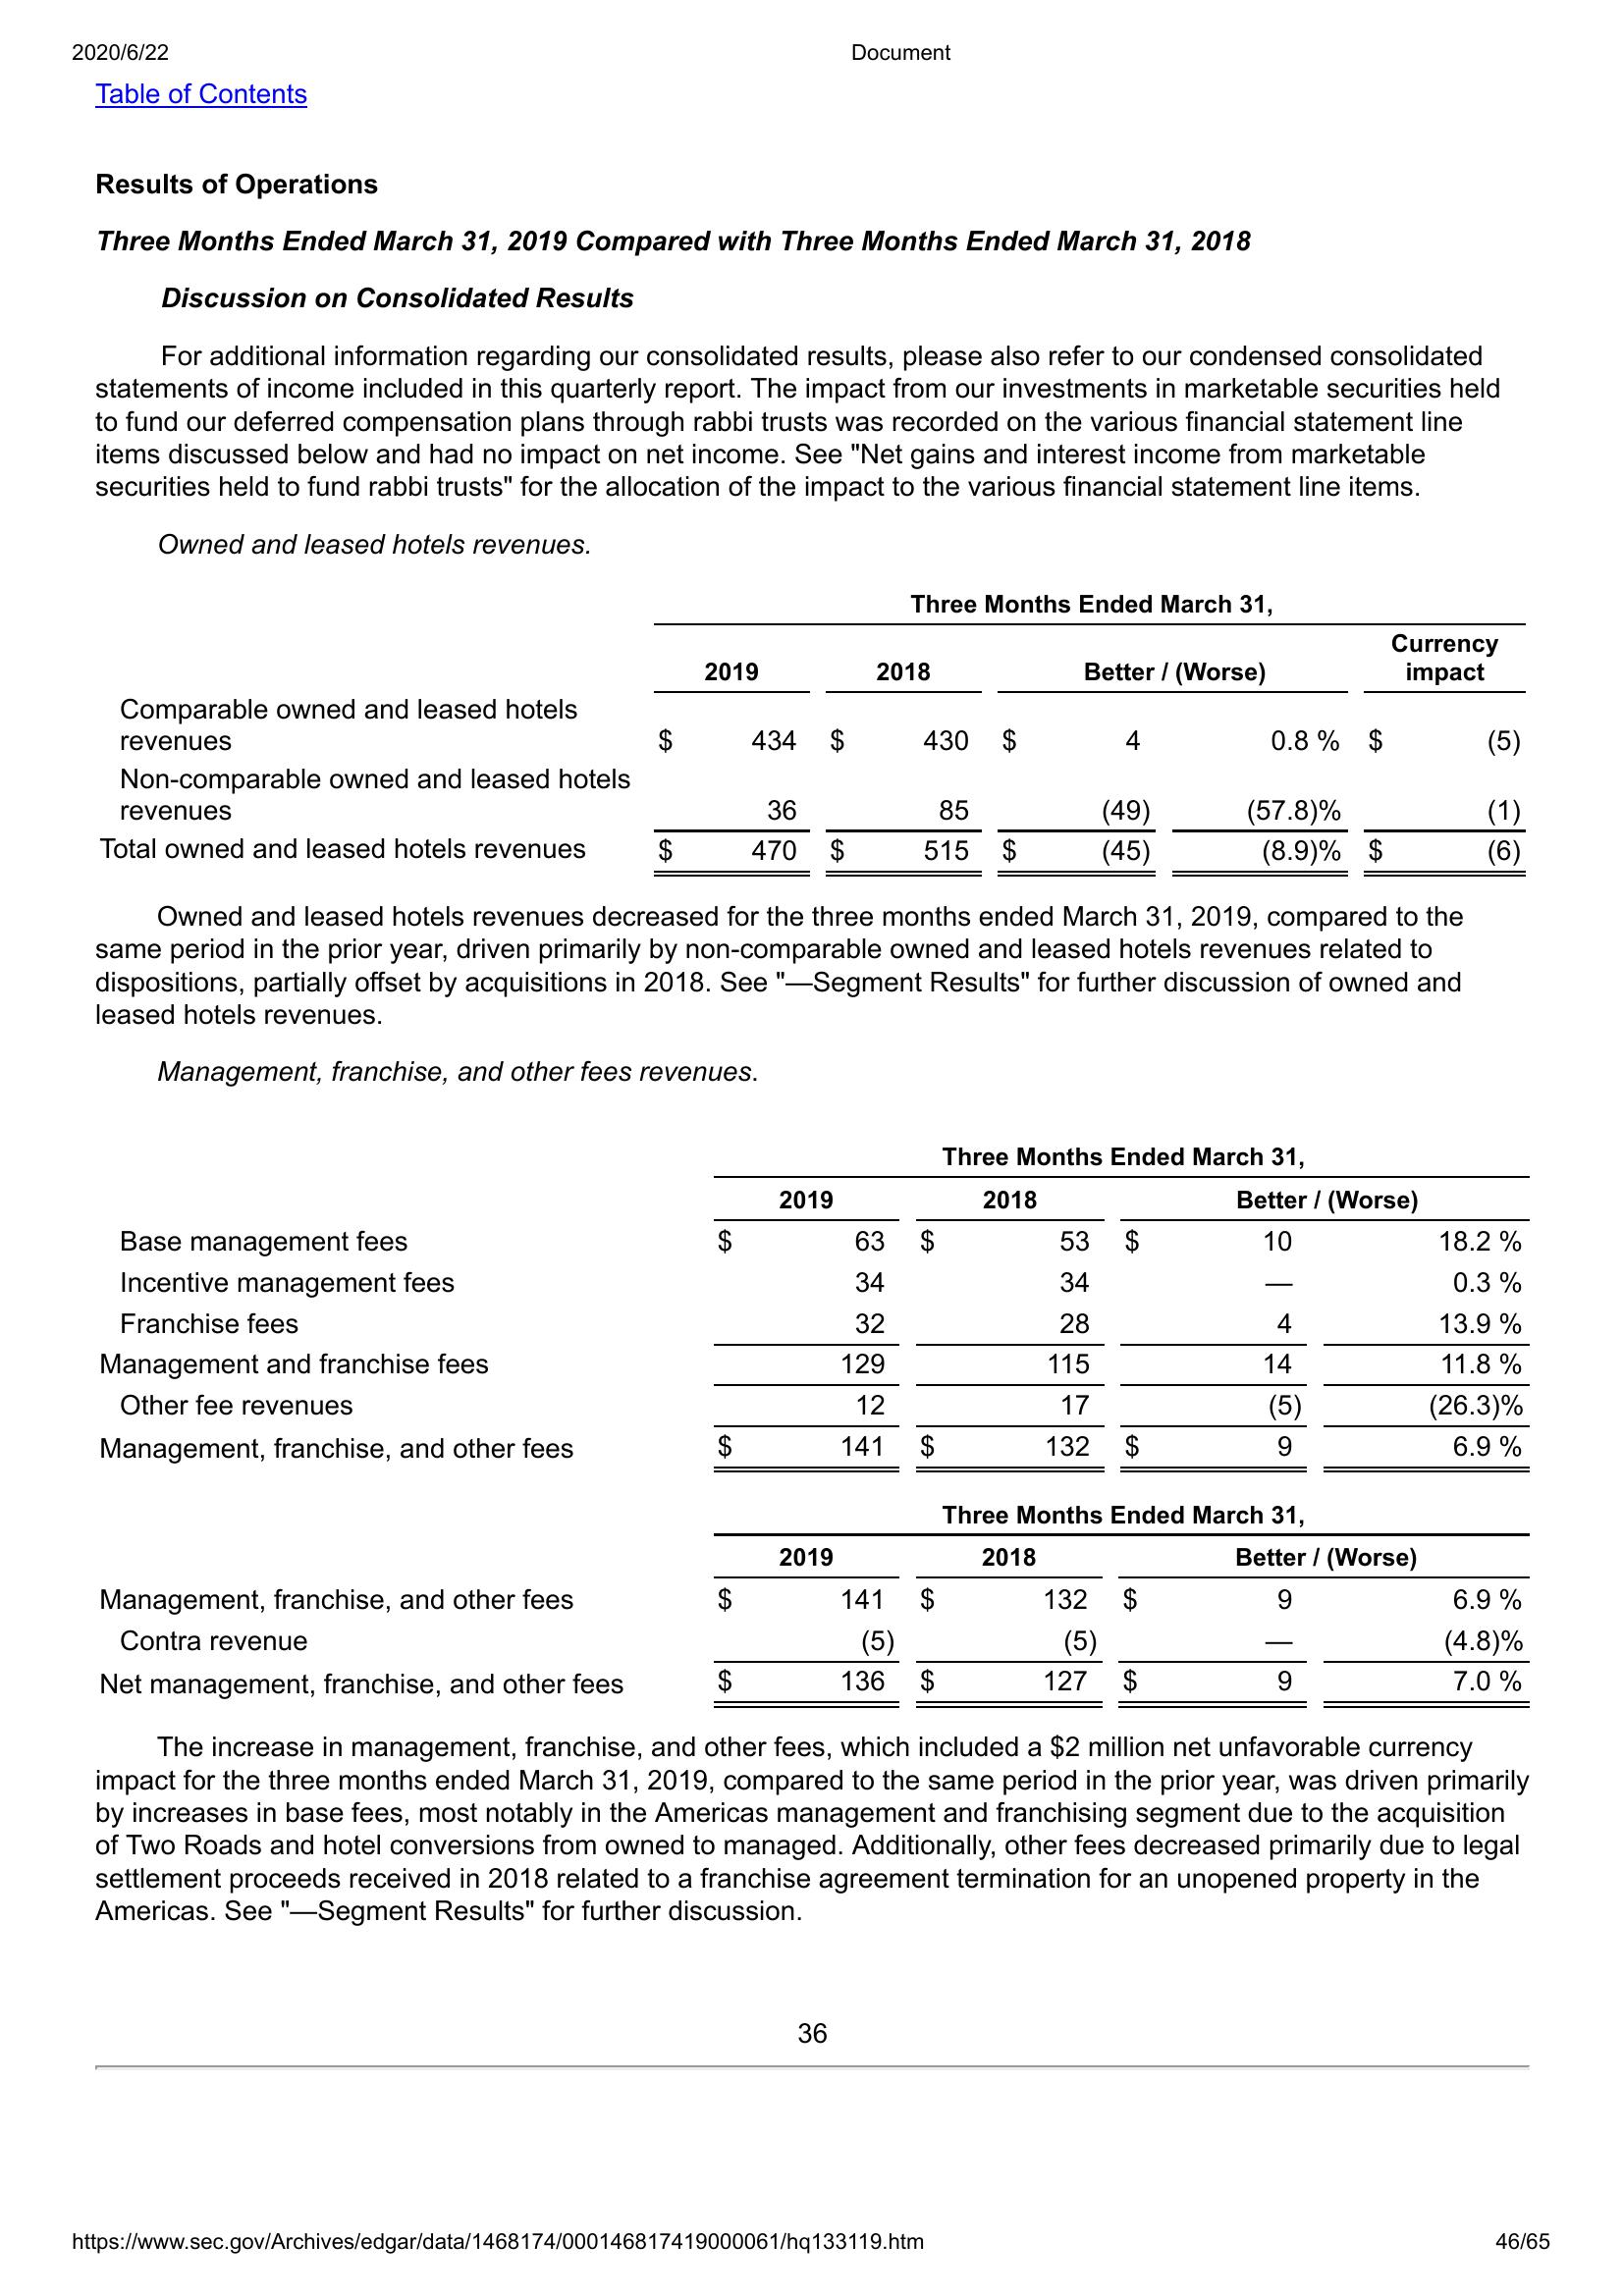table: (90, 1130, 1540, 1482), (95, 579, 1530, 885), (95, 1499, 1540, 1715)
